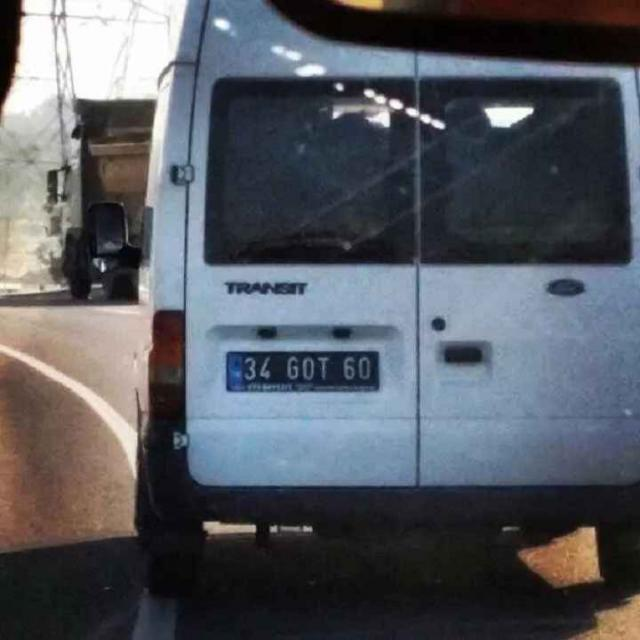plate: (225, 351, 380, 395)
